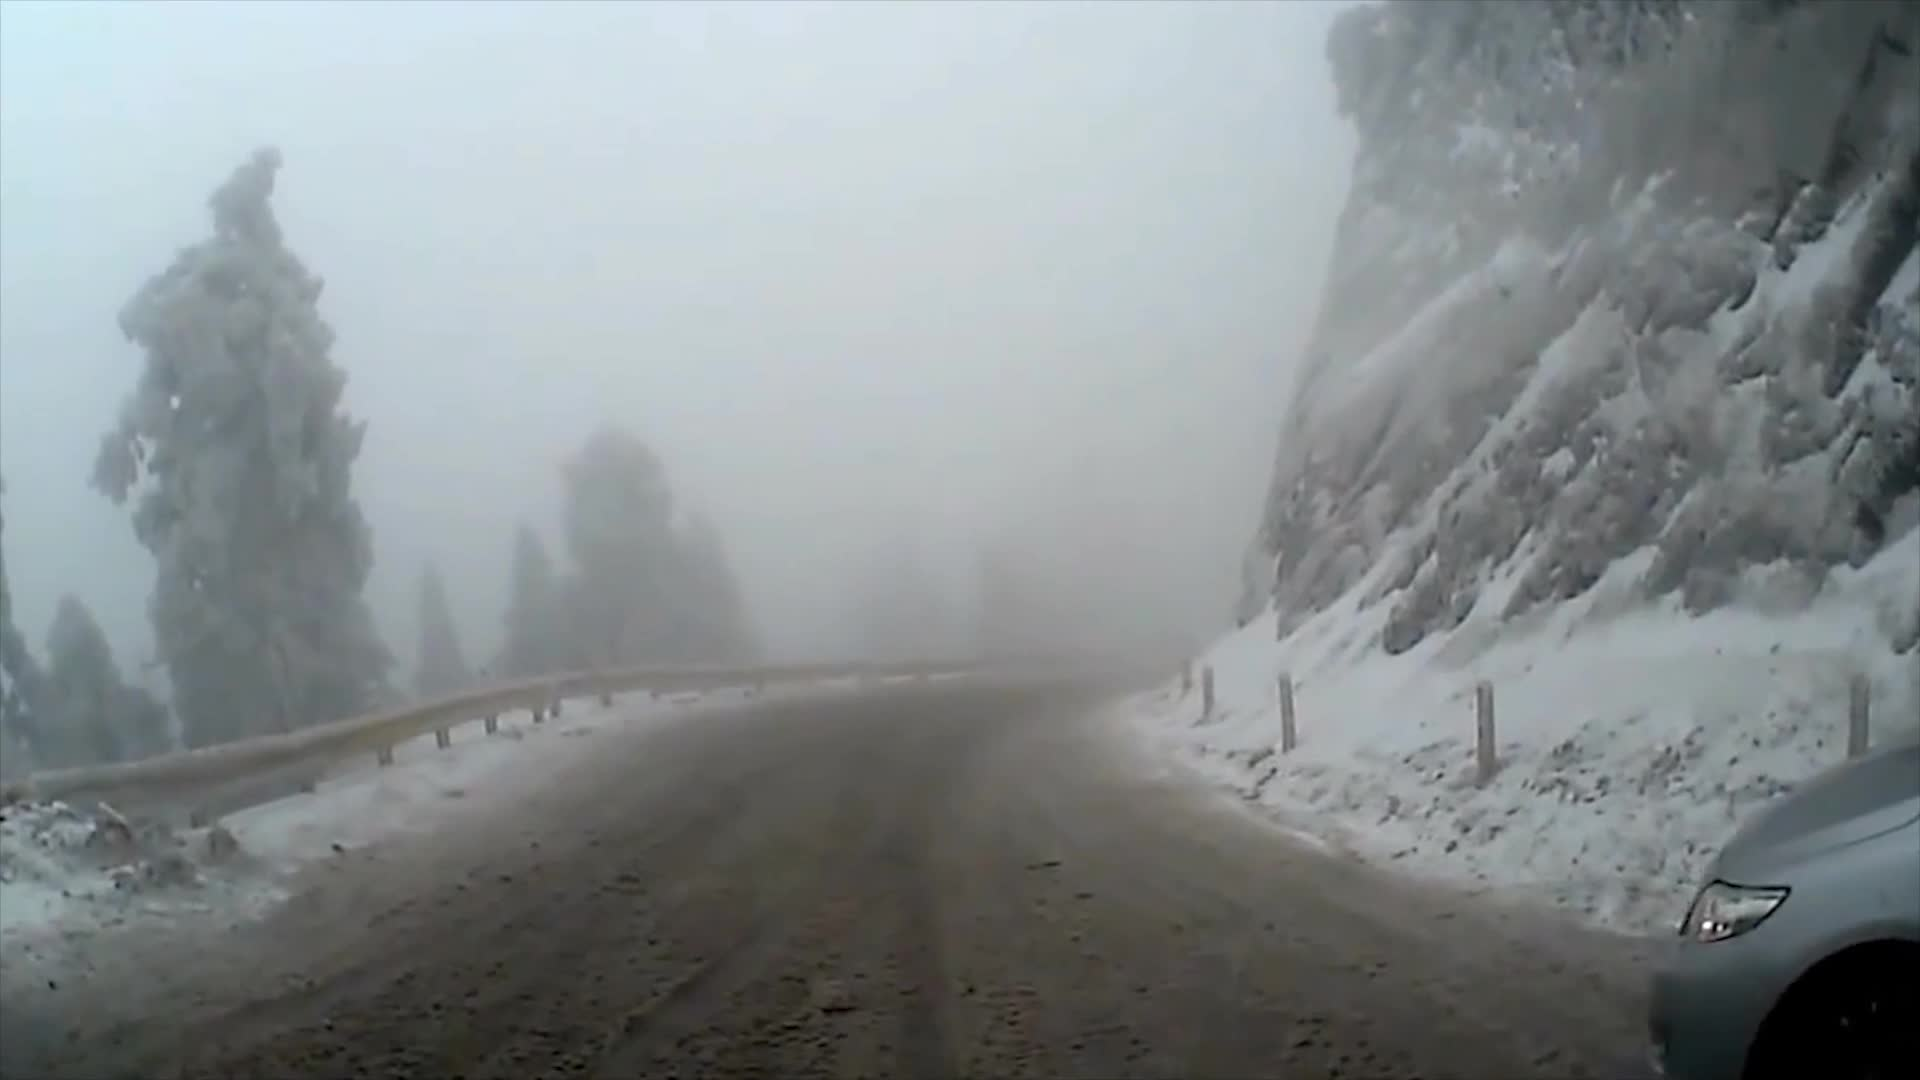vehicle: (1639, 725, 1920, 1080)
